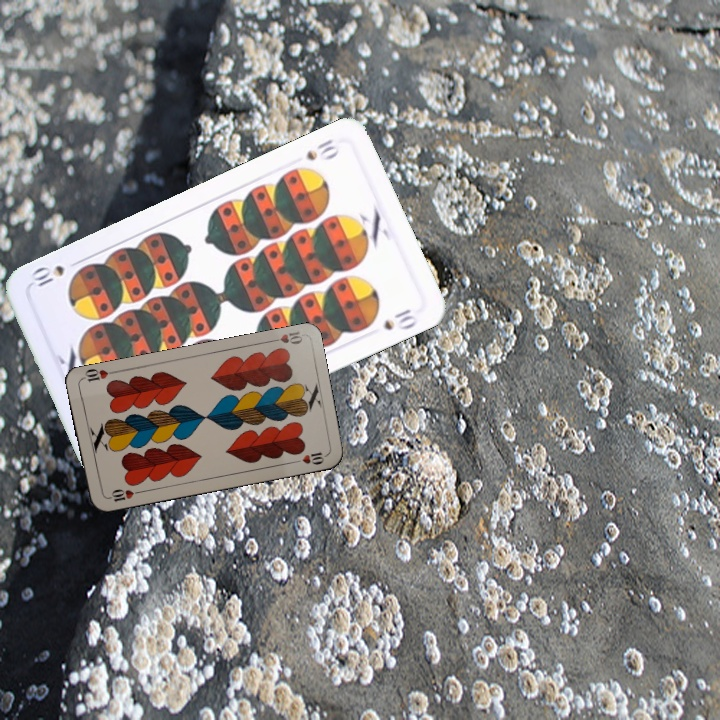H10: (264, 327, 305, 347), (103, 485, 143, 505)
S10: (301, 134, 343, 163)
